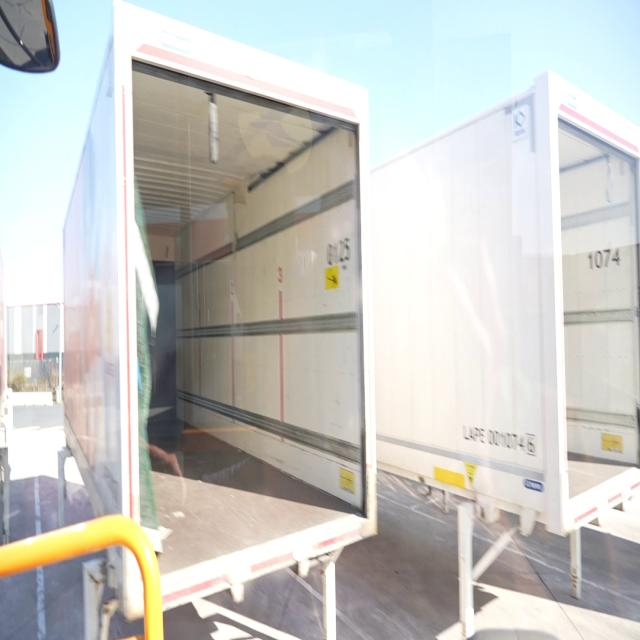Code: (584, 237, 623, 281)
